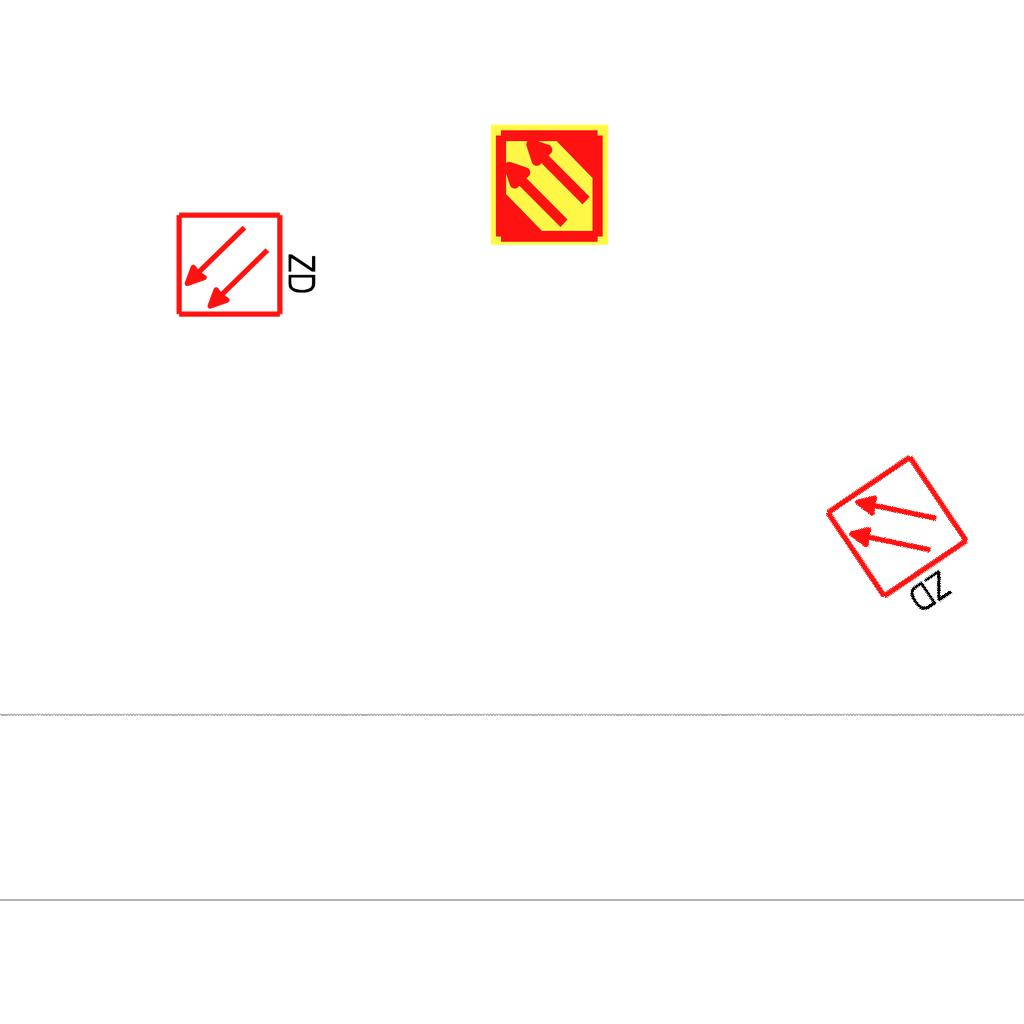ASR_Ansaugrauchmelder: (487, 122, 612, 247)
ZD_Melder_in_Zwischendecke_mit_Revisionsoeffnung_mind_40_x_40_cm: (820, 447, 998, 636), (174, 206, 323, 320)
